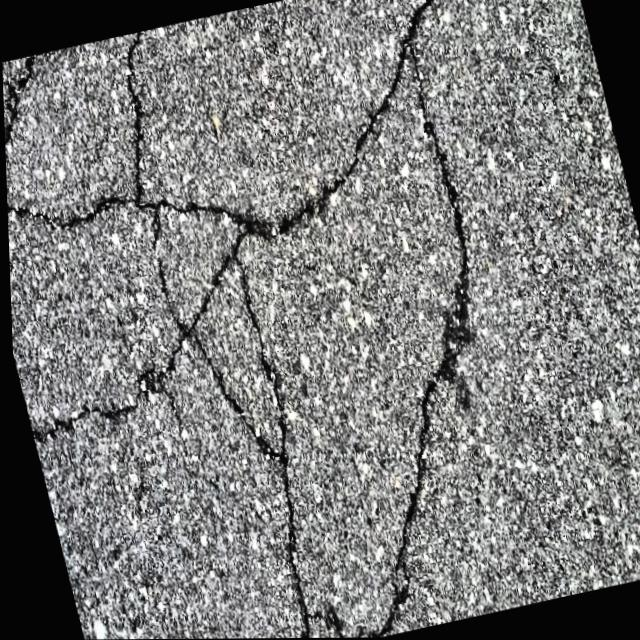Clogged Drains: (348, 287, 468, 638), (197, 259, 307, 638), (29, 328, 203, 440), (299, 156, 356, 211), (135, 199, 255, 224)
